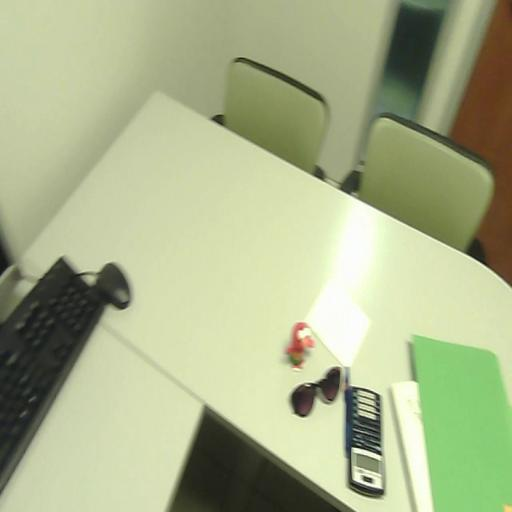pen: (342, 368, 352, 458)
